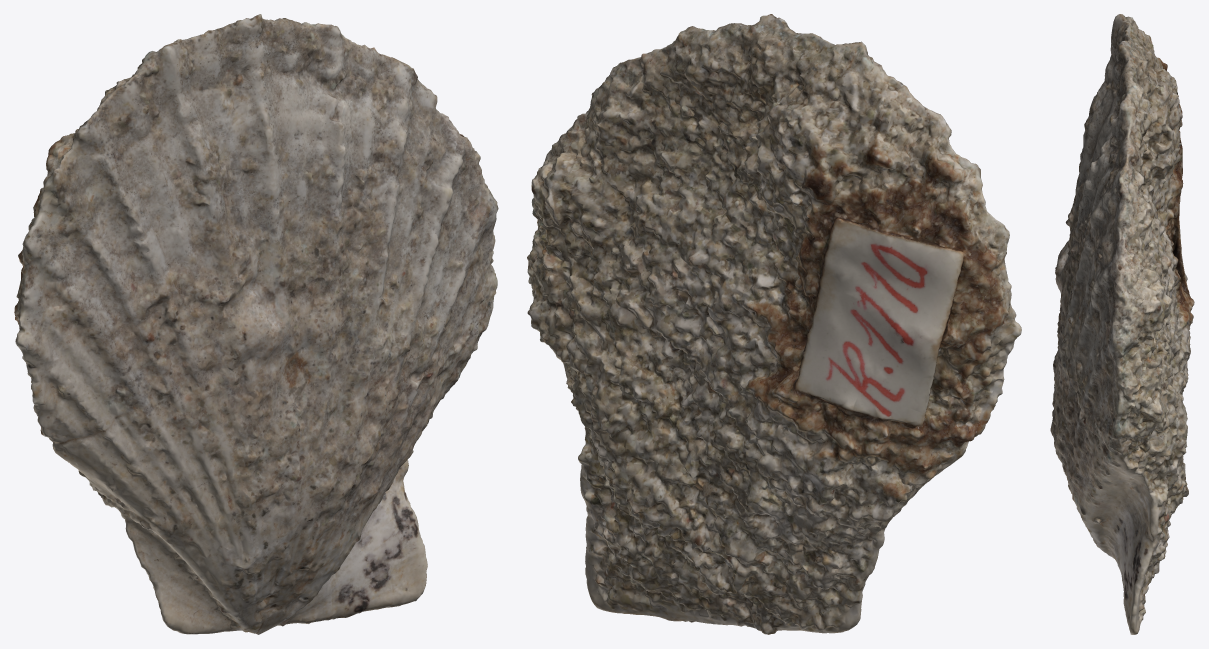
The model's file is EWS0014106.glb.
The picture shows the model from 3 angles, left to right: view 1: azimuth 30°, elevation 25°; view 2: azimuth 150°, elevation 25°; view 3: azimuth 270°, elevation 25°; orthographic projection. The views are drawn at different scales.
Visible parts, largest first — view 1: input; view 2: input; view 3: input.
Boxes of the visible parts, x1,y1,x2,y2 form: input: (14, 14, 498, 634); input: (527, 14, 1021, 634); input: (1050, 14, 1194, 634).
Size of the model in its own units: 0.03 by 0.0373 by 0.00929.
Materials: 1 (1 with a texture image).
